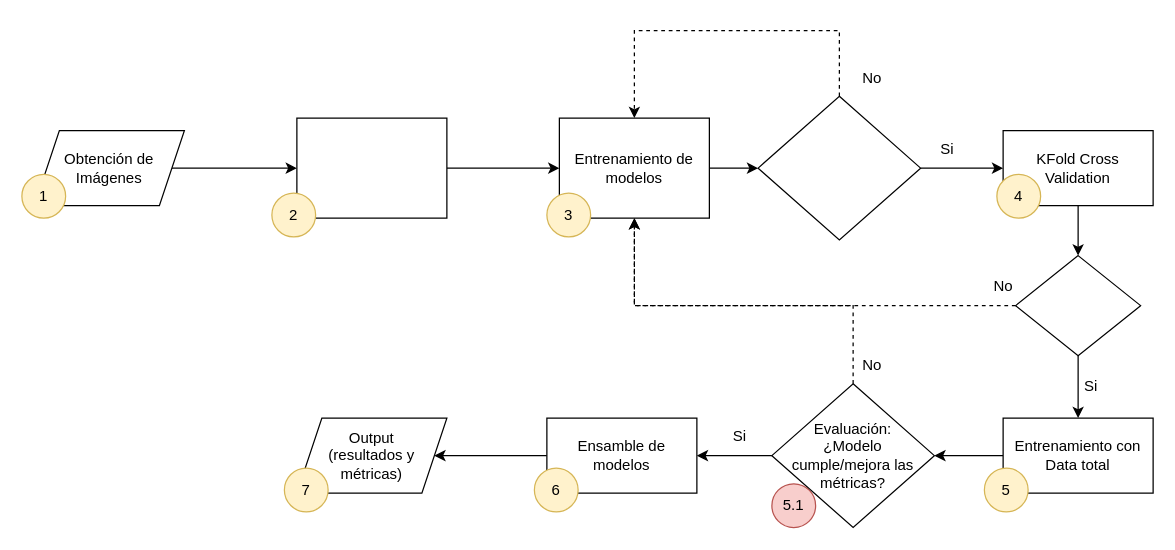
Some shapes in this 1175 by 550 pixel diagram are drawn without their labels. Here are the shapes that lost their labels. From the top down, the centre of each, then its label:
At (371,167): "Preprocesamiento y División de datos".
At (839,167): "¿Las métricas son aceptables?".
At (1077,305): "¿Modelo se muestra estable?".
